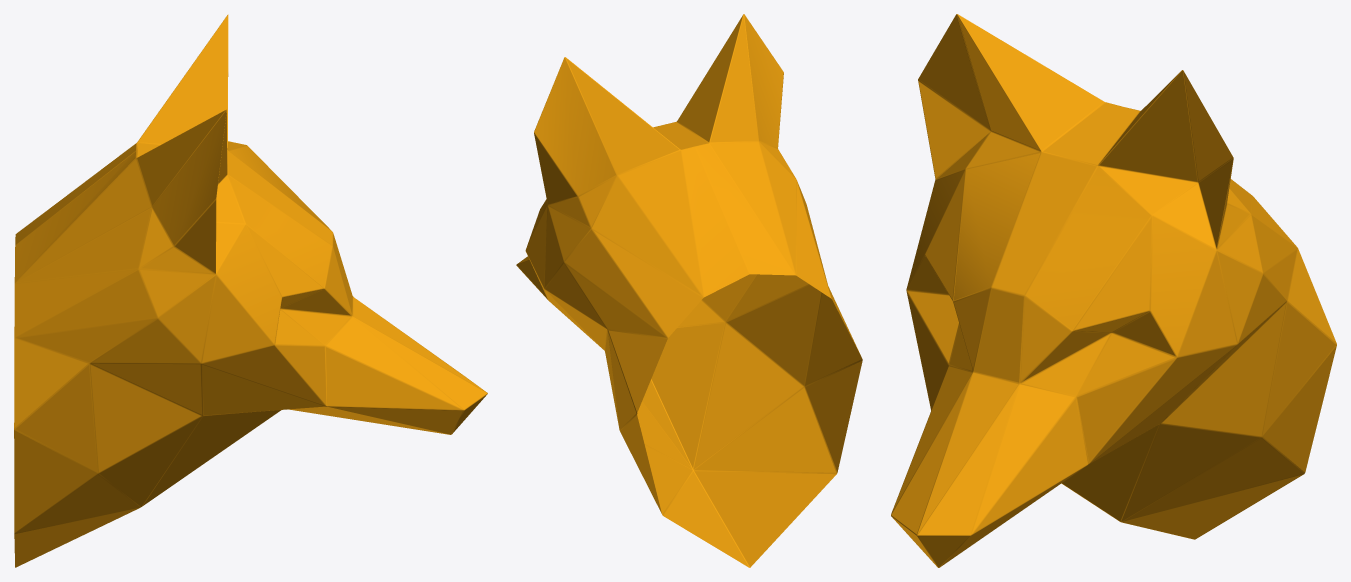
File: poligonFoxGold.gltf
3 renders of one model, left to right at view 1: azimuth 30°, elevation 25°; view 2: azimuth 150°, elevation 25°; view 3: azimuth 270°, elevation 25°, orthographic. The views are drawn at different scales.
Parts seen in each view (by area): view 1: poligonFoxGold; view 2: poligonFoxGold; view 3: poligonFoxGold.
Boxes of the visible parts, left/top/right/bottom form: poligonFoxGold: left=14, top=14, right=487, bottom=567; poligonFoxGold: left=516, top=14, right=862, bottom=567; poligonFoxGold: left=891, top=14, right=1336, bottom=567.
Size of the model in its own units: 3.27 by 3.81 by 2.62.
